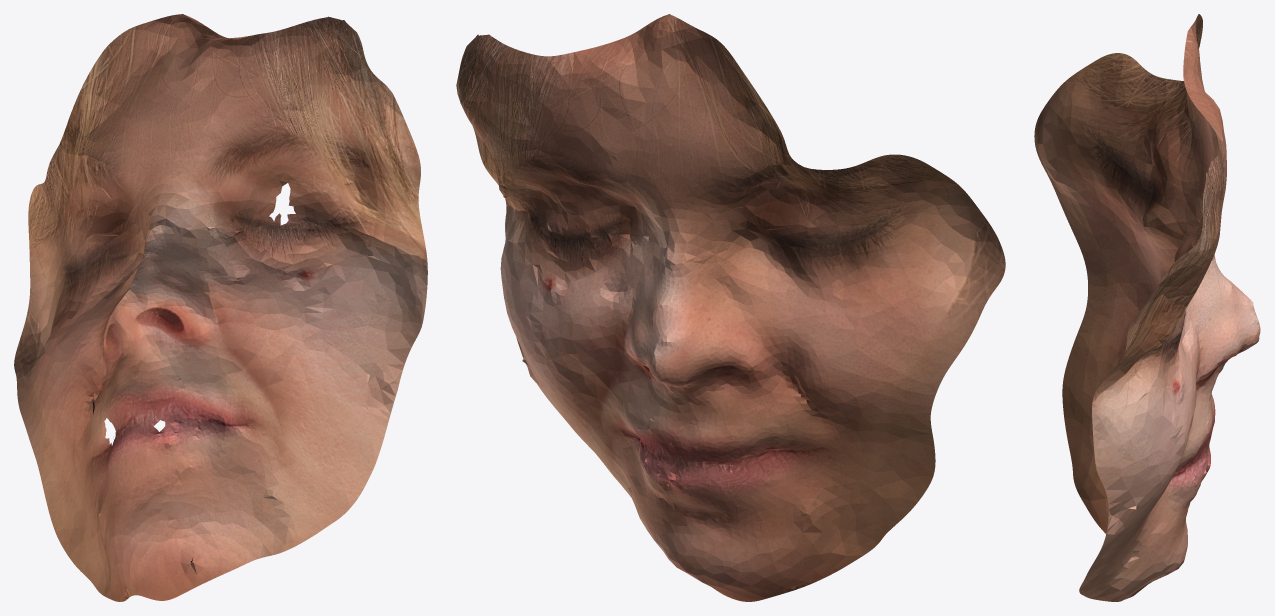
File: BUSTO_2.glb
3 views of the same model, side by side, from view 1: azimuth 30°, elevation 25°; view 2: azimuth 150°, elevation 25°; view 3: azimuth 270°, elevation 25° (orthographic). The views are drawn at different scales.
Parts seen in each view (by area): view 1: Mesh_0.014; view 2: Mesh_0.014; view 3: Mesh_0.014.
Part boxes in pixels (left/top/right/bottom): Mesh_0.014: left=14, top=14, right=427, bottom=601; Mesh_0.014: left=456, top=14, right=1005, bottom=601; Mesh_0.014: left=1034, top=14, right=1260, bottom=601.
Size of the model in its own units: 3.14 by 3.71 by 1.32.
2 materials, 2 textured.
